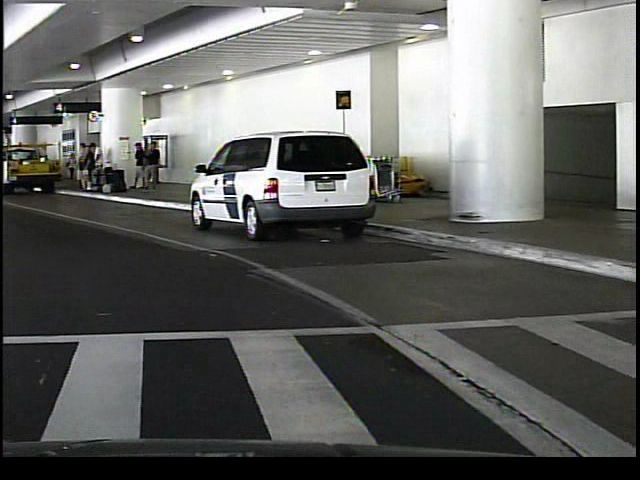person: (144, 139, 160, 191), (72, 140, 86, 191)
